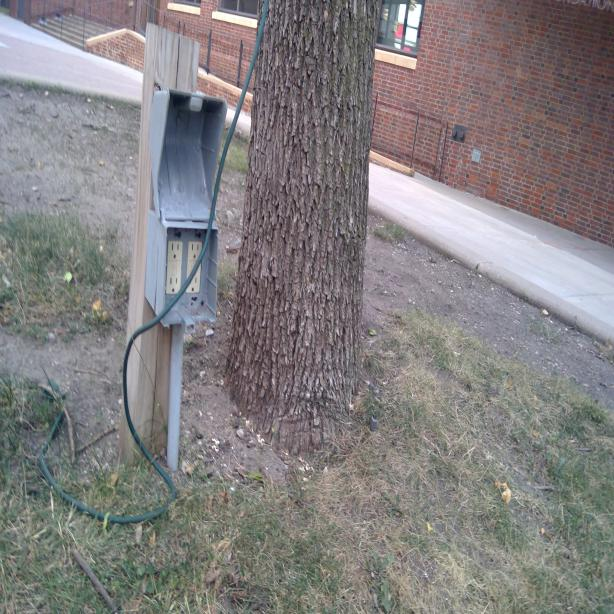typeb: (169, 240, 183, 263), (190, 240, 202, 260), (168, 274, 178, 294), (188, 276, 198, 293)
